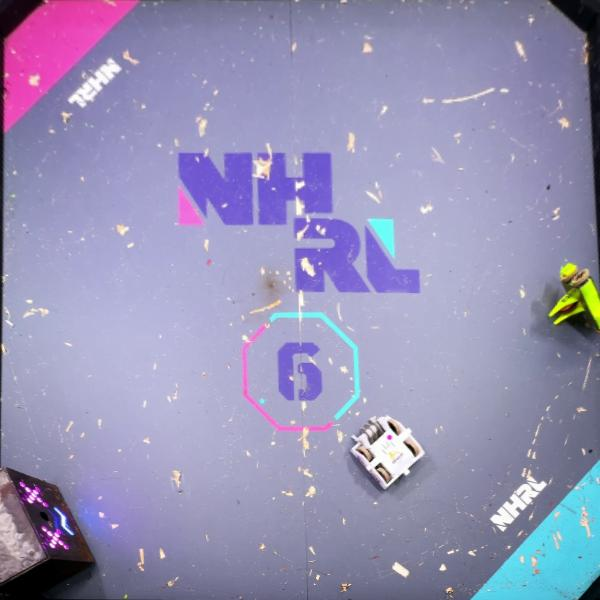housebot: (0, 466, 100, 600)
robot: (349, 415, 426, 492), (547, 262, 600, 332)
